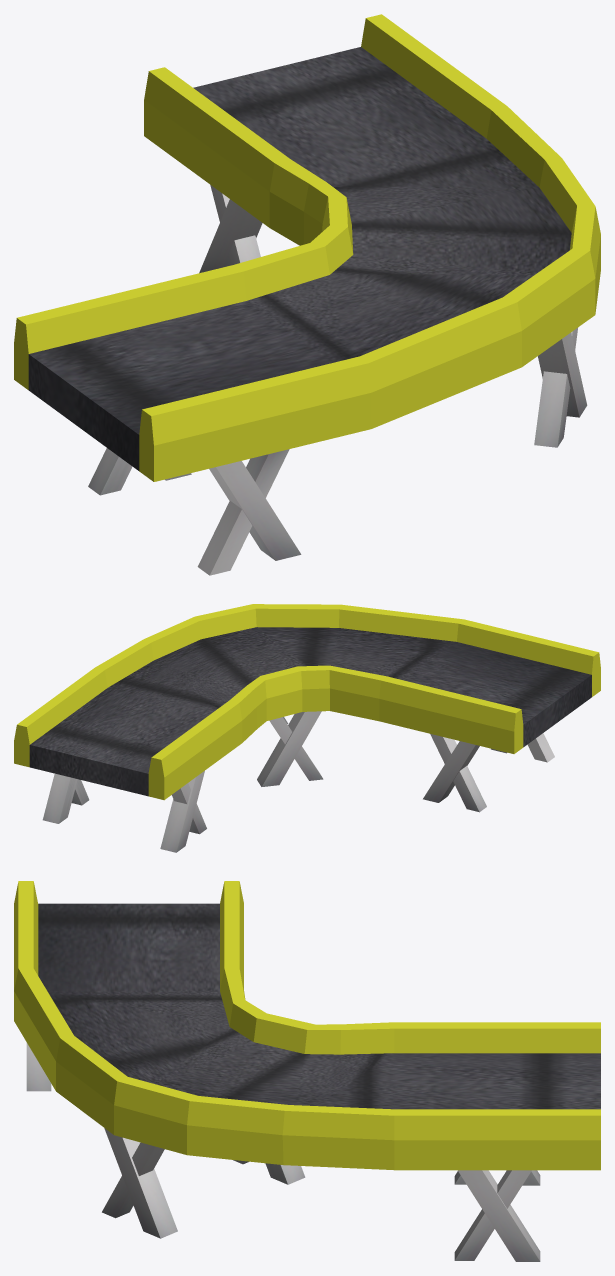
Rendered from EsteirasCurva.fbx.
The picture shows the model from 3 angles, top to bottom: view 1: azimuth 30°, elevation 25°; view 2: azimuth 150°, elevation 25°; view 3: azimuth 270°, elevation 25°; orthographic projection. The views are drawn at different scales.
Visible parts, largest first — view 1: Cube.001; view 2: Cube.001; view 3: Cube.001.
Part boxes in pixels (x1=…): Cube.001: x1=14, y1=14, x2=600, y2=575; Cube.001: x1=14, y1=604, x2=600, y2=852; Cube.001: x1=14, y1=881, x2=600, y2=1261.
Size of the model in its own units: 486 by 142 by 510.
